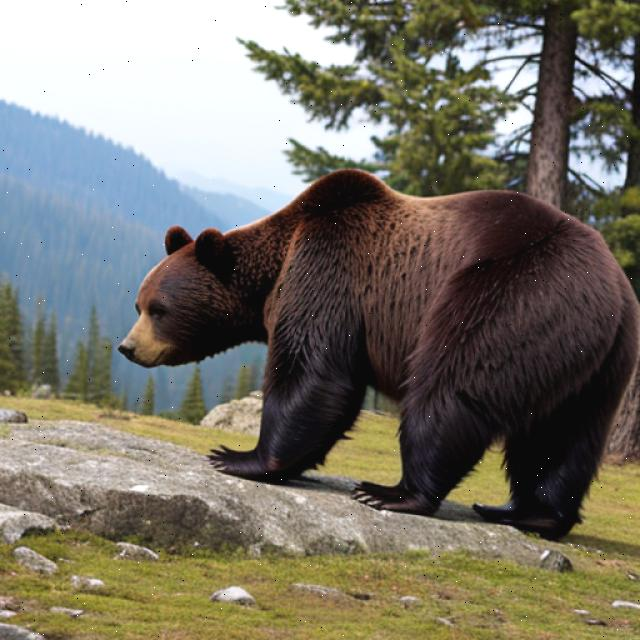bear: (107, 202, 263, 371)
